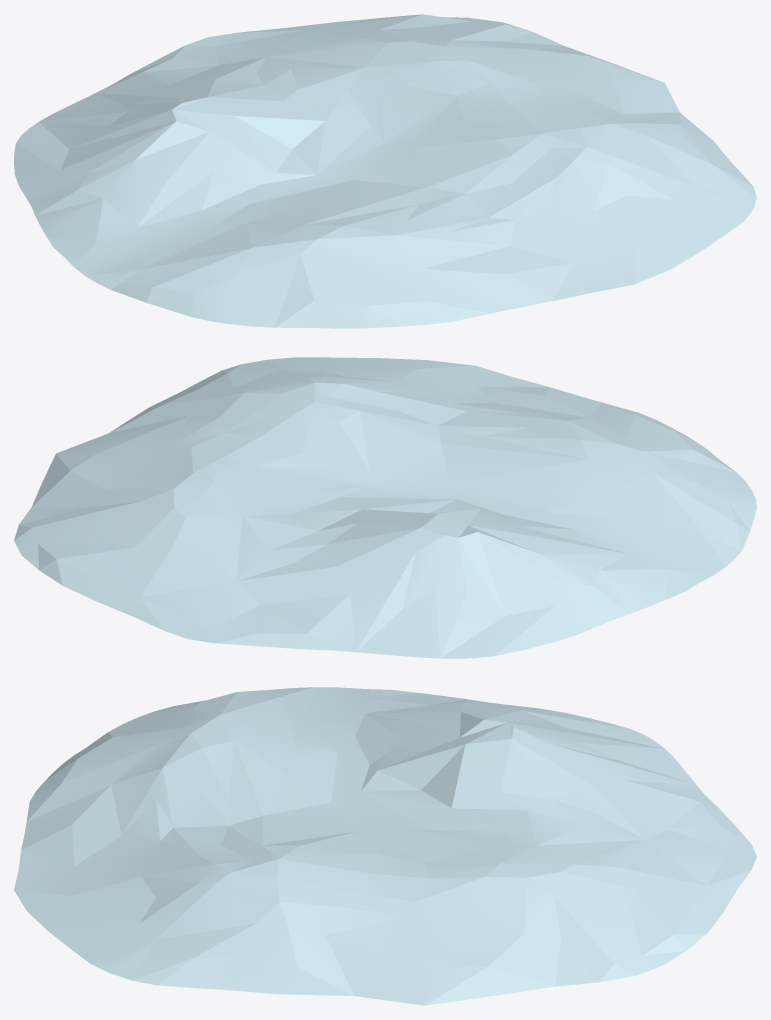
The model's file is Tileset_Nieve05.glb.
The picture shows the model from 3 angles, top to bottom: view 1: azimuth 30°, elevation 25°; view 2: azimuth 150°, elevation 25°; view 3: azimuth 270°, elevation 25°; orthographic projection. The views are drawn at different scales.
Visible parts, largest first — view 1: SM_Env_DirtMound_04_Snow; view 2: SM_Env_DirtMound_04_Snow; view 3: SM_Env_DirtMound_04_Snow.
Boxes of the visible parts, x1,y1,x2,y2 form: SM_Env_DirtMound_04_Snow: (14, 14, 756, 328); SM_Env_DirtMound_04_Snow: (14, 357, 756, 658); SM_Env_DirtMound_04_Snow: (14, 687, 756, 1005).
Bounding box in the file's own units: 25.88 × 2.19 × 25.51.
Materials: 1 (1 with a texture image).
